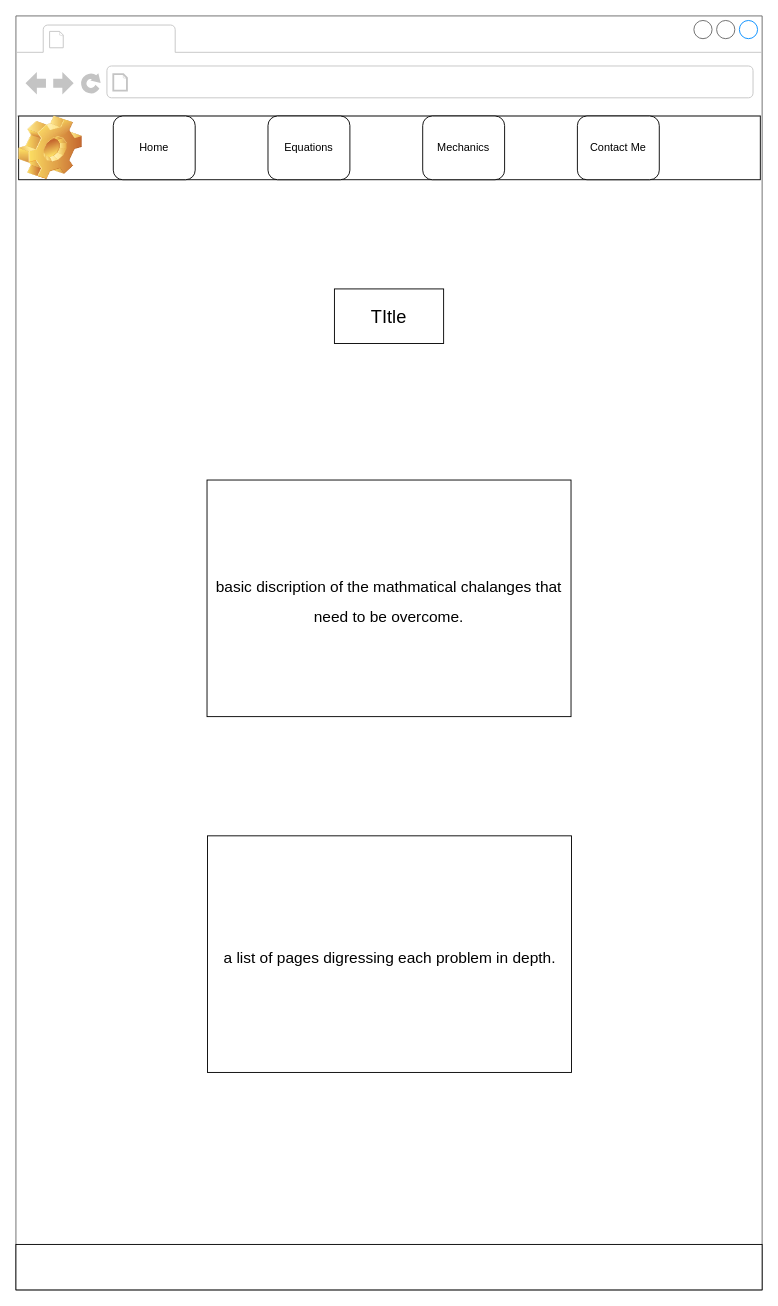
Some shapes in this 778 by 1306 pixel diagram are drawn without their labels. The centre of each missing label's shape, as x and y in pixels:
footer, name, copywrite, socals: the point at 388,1267
Page 1: the point at 120,38
www.theMelee.com: the point at 247,82
